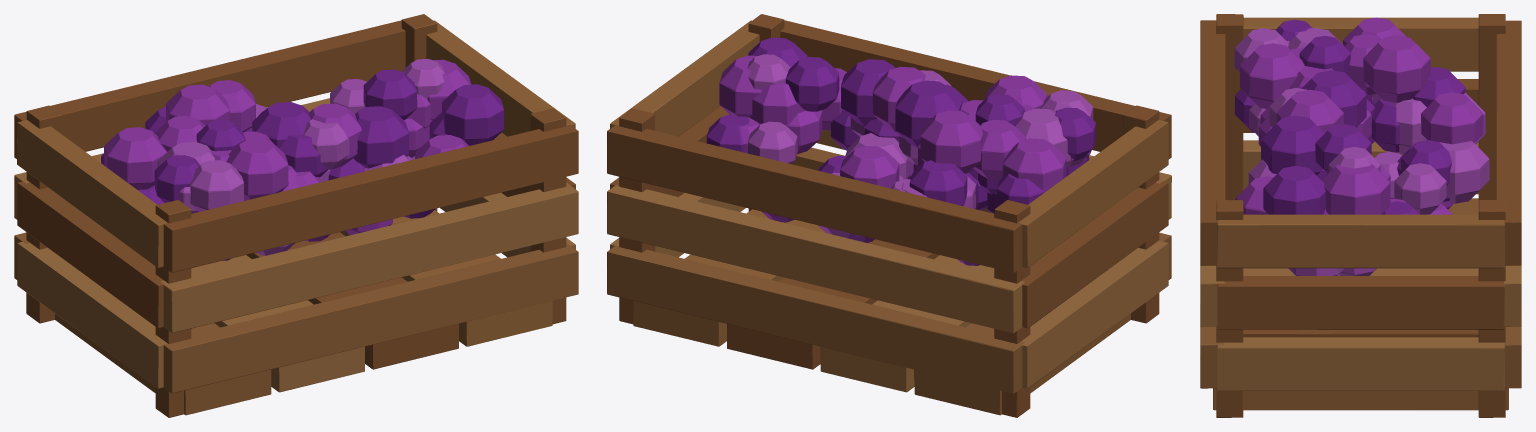
File: decorative_grape_crate.glb
3 views of the same model, side by side, from view 1: azimuth 30°, elevation 25°; view 2: azimuth 150°, elevation 25°; view 3: azimuth 270°, elevation 25° (orthographic).
Parts seen in each view (by area): view 1: decorative_grape_crate; view 2: decorative_grape_crate; view 3: decorative_grape_crate.
Part boxes in pixels (x1=…): decorative_grape_crate: x1=14, y1=14, x2=578, y2=417; decorative_grape_crate: x1=607, y1=14, x2=1171, y2=417; decorative_grape_crate: x1=1200, y1=14, x2=1521, y2=417.
Size of the model in its own units: 1.16 by 0.6169 by 0.76.
